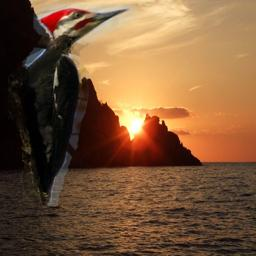Woodpecker: (8, 4, 136, 206)
